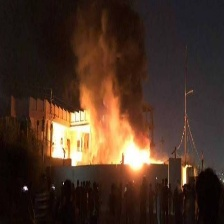fire: (123, 141, 154, 172)
smoke: (64, 5, 160, 149)
